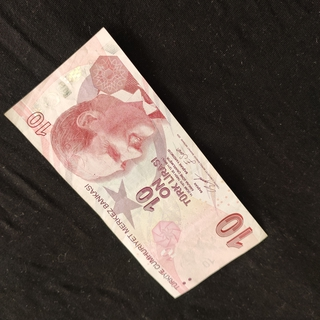10TLFront: (2, 25, 268, 299)
